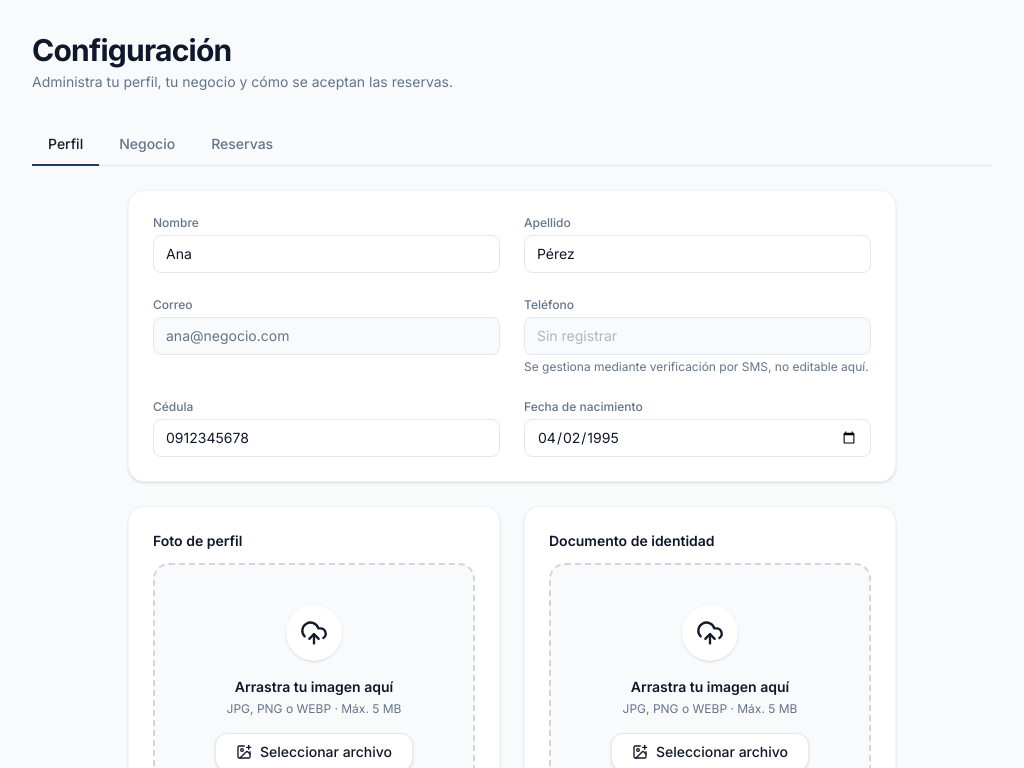
it: ConfiguracionModule › navega a la pestaña de reservas
The image size is (1024, 768).
Click the button "Reservas": [242, 145] box [195, 124, 289, 166]
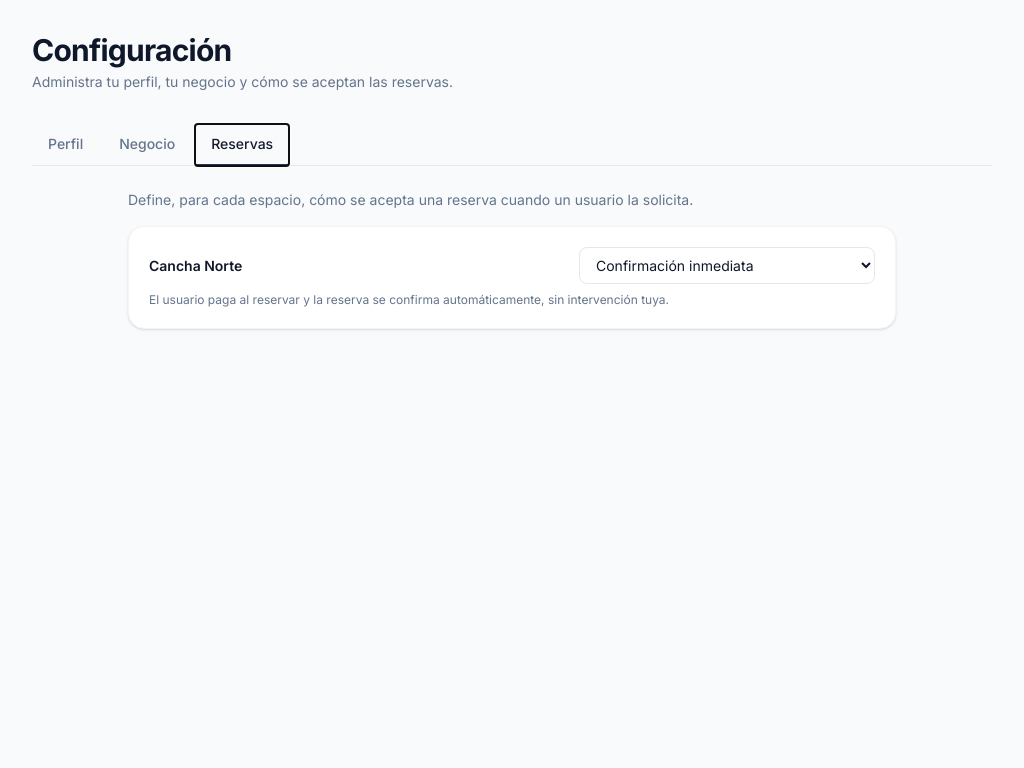
Check: the text "Cancha Norte" is shown, box [149, 256, 242, 276]
